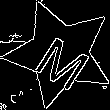M_NE: (26, 20, 93, 87)
